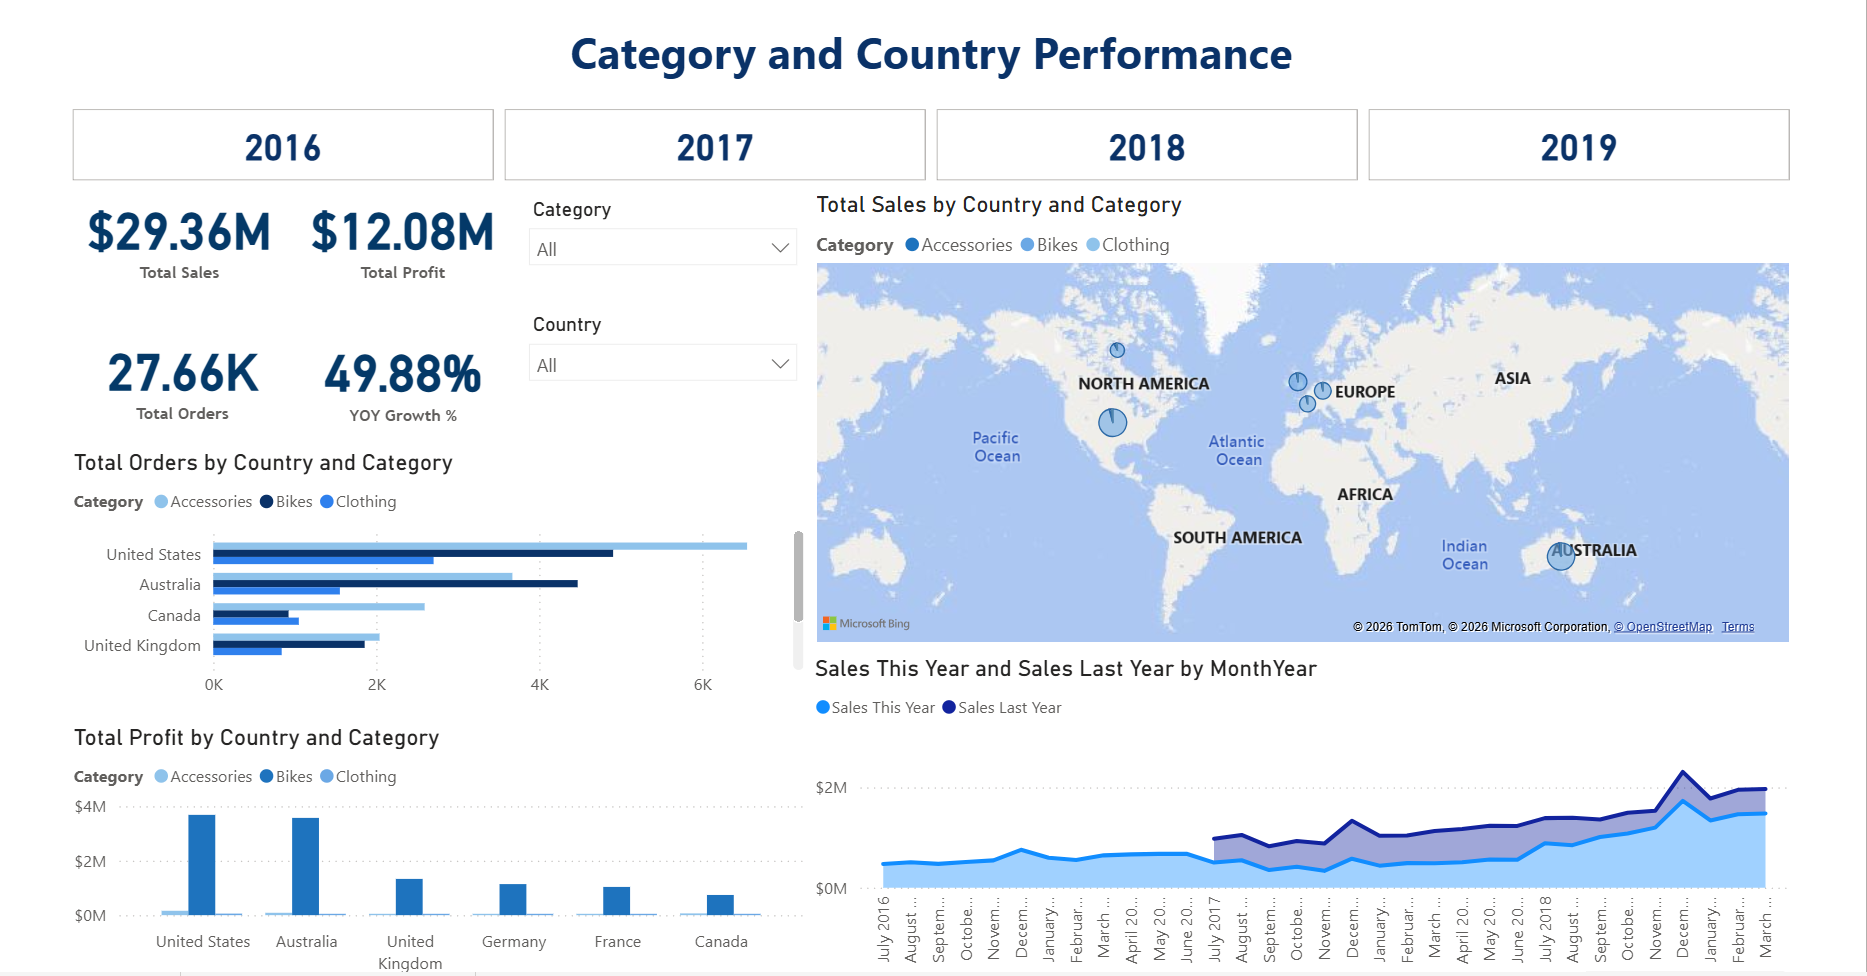

The dashboard page shown, as its layout file describes it:
{"tool":"powerbi","page":{"name":"Category  and Country Performance","canvas":[1280,720],"ordinal":0},"visuals":[{"type":"card","fields":{"Values":["Key measure.Total Sales"]},"box":[-0.5,109.7,166,106],"z":0},{"type":"card","fields":{"Values":["Key measure.Total Profit"]},"box":[165.5,109.7,166,106],"z":1000},{"type":"card","fields":{"Values":["Key measure.Total Orders"]},"box":[2.1,214.5,166.1,106.1],"z":2000},{"type":"card","fields":{"Values":["Key measure.Growth %"]},"box":[165.5,215.7,166,106],"z":3000},{"type":"advancedSlicerVisual","fields":{"Values":["Calendar.CalendarYear"]},"box":[-1.6,64.8,1282.4,63.1],"z":4000},{"type":"slicer","fields":{"Values":["Products.Category"]},"box":[331.9,129.5,218.6,66.4],"z":5000},{"type":"slicer","fields":{"Values":["Territory.Country"]},"box":[331.9,215.4,218.6,66.4],"z":6000},{"type":"clusteredBarChart","fields":{"Category":["Territory.Country"],"Series":["Products.Category"],"Y":["Key measure.Total Orders"]},"box":[0,320.6,550.5,192.7],"z":7000},{"type":"map","fields":{"Category":["Territory.Country"],"Size":["Key measure.Total Sales"],"Series":["Products.Category"]},"box":[550.5,129.5,730.3,340],"z":8000},{"type":"clusteredColumnChart","fields":{"Y":["Key measure.Total Profit"],"Category":["Territory.Country"],"Series":["Products.Category"]},"box":[0,524,551,193],"z":9000},{"type":"stackedAreaChart","fields":{"Category":["Calendar.MonthYear"],"Y":["Key measure.Total Sales","Key measure.Sales Last Year"]},"box":[548.9,472.8,730.3,247.7],"z":10000},{"type":"textbox","box":[0,0,1280.8,64.8],"z":11000}]}

Visuals, with their boxes on the page's 1280x720 design canvas (x1, y1, x2, y2). These are canvas units, not pixel positions in the 1867x976 screenshot, which may show the page scaled, cropped or inside an application window:
card - Key measure.Total Sales: 0 110 166 216
card - Key measure.Total Profit: 166 110 332 216
card - Key measure.Total Orders: 2 214 168 321
card - Key measure.Growth %: 166 216 332 322
advancedSlicerVisual - Calendar.CalendarYear: -2 65 1281 128
slicer - Products.Category: 332 130 550 196
slicer - Territory.Country: 332 215 550 282
clusteredBarChart - Territory.Country x Products.Category: 0 321 550 513
map - Territory.Country x Key measure.Total Sales: 550 130 1281 470
clusteredColumnChart - Key measure.Total Profit x Territory.Country: 0 524 551 717
stackedAreaChart - Calendar.MonthYear x Key measure.Total Sales: 549 473 1279 720
textbox: 0 0 1281 65
